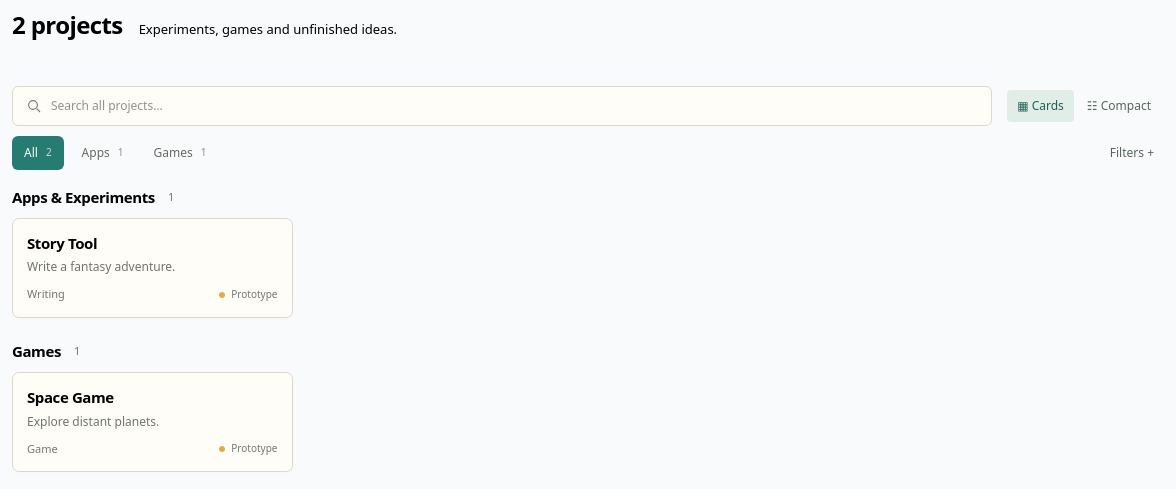
Scenario: finds projects by description without exposing implementation badges
Type "  FANTASY" into the search field.
click(515, 106); type("  FANTASY")  # box [51,96,978,114]
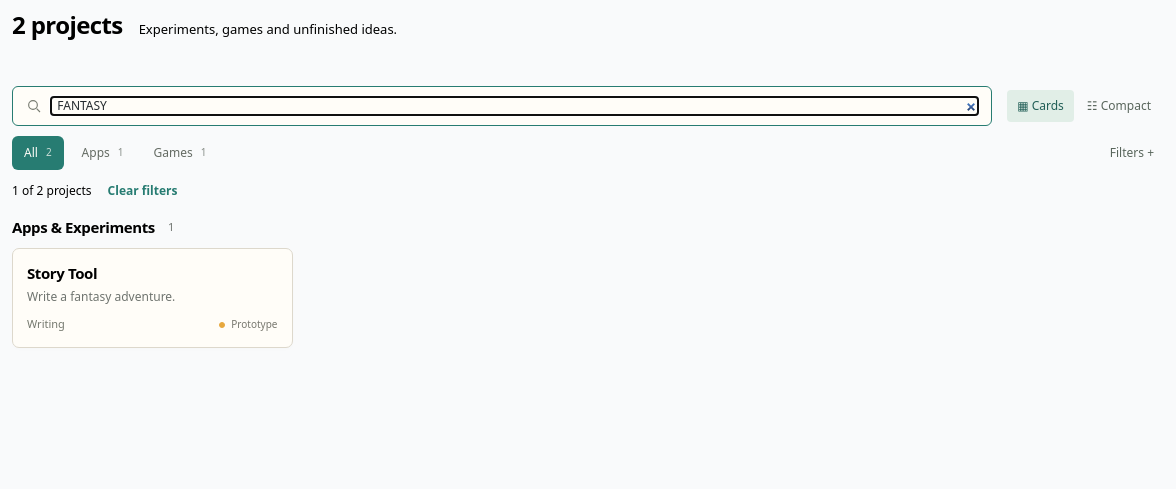
Expected: the link "Story Tool" is shown, [27,263,97,283]
Now the link "Space Game" is gone
